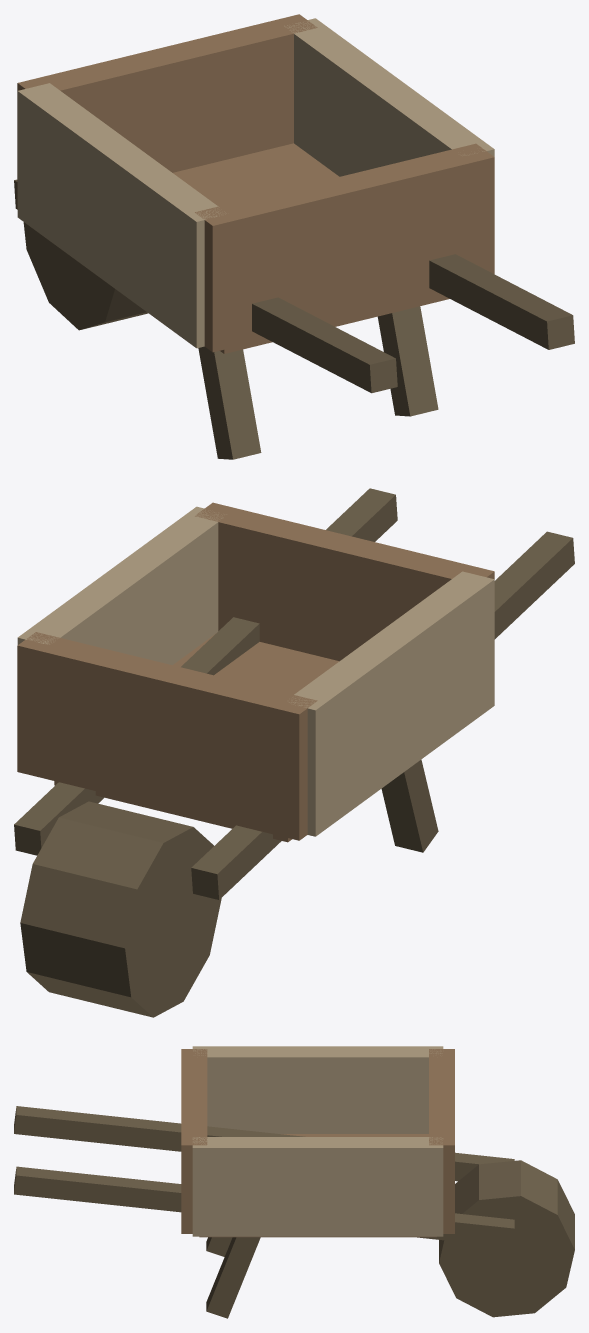
Rendered from qc_wheelbarrow.obj.
3 views of the same model, one above another, from view 1: azimuth 30°, elevation 25°; view 2: azimuth 150°, elevation 25°; view 3: azimuth 270°, elevation 25° (orthographic). The views are drawn at different scales.
Visible parts, largest first — view 1: qc_wheelbarrow; view 2: qc_wheelbarrow; view 3: qc_wheelbarrow.
Boxes of the visible parts, x1=… form: qc_wheelbarrow: x1=14, y1=14, x2=574, y2=459; qc_wheelbarrow: x1=14, y1=488, x2=574, y2=1017; qc_wheelbarrow: x1=14, y1=1046, x2=574, y2=1318.
Bounding box in the file's own units: 0.74 × 0.6855 × 1.72.
